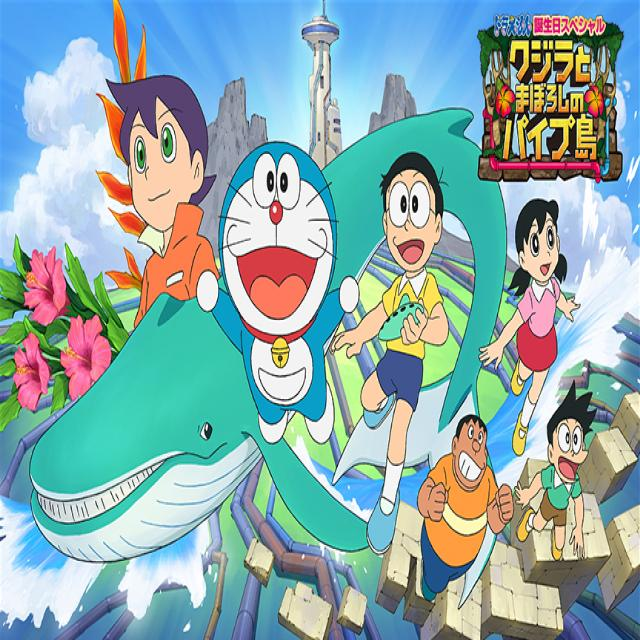doraemon: (202, 127, 347, 380)
jaian: (442, 407, 496, 510)
nobita: (369, 145, 444, 308)
shizuka: (510, 186, 574, 315)
suneo: (539, 378, 602, 512)
